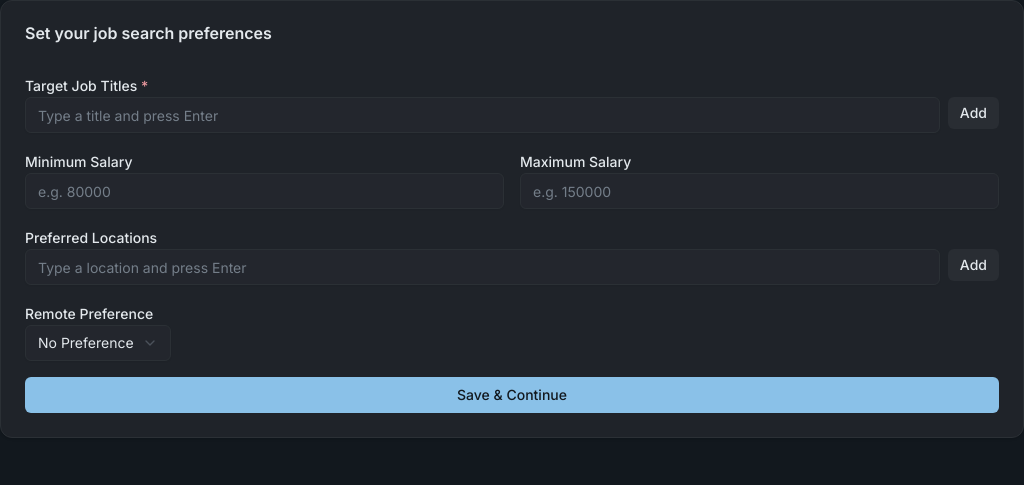
it: PreferencesStep › [P1] should add title chip on Enter key
Type "Frontend Engineer" into the field labelled "Target Job Titles *". click: (482, 115)
box: left=25, top=97, right=940, bottom=133
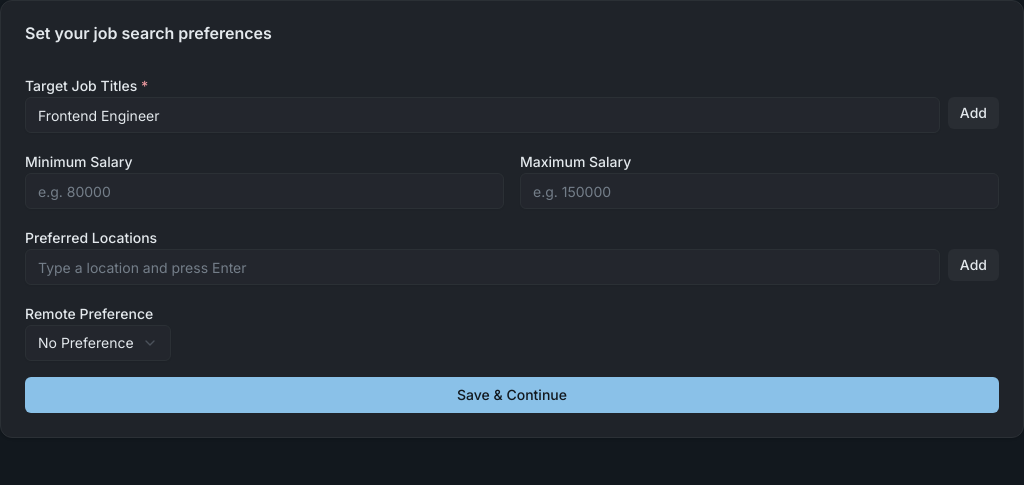
Press Enter in the field labelled "Target Job Titles *", box left=25, top=97, right=940, bottom=133
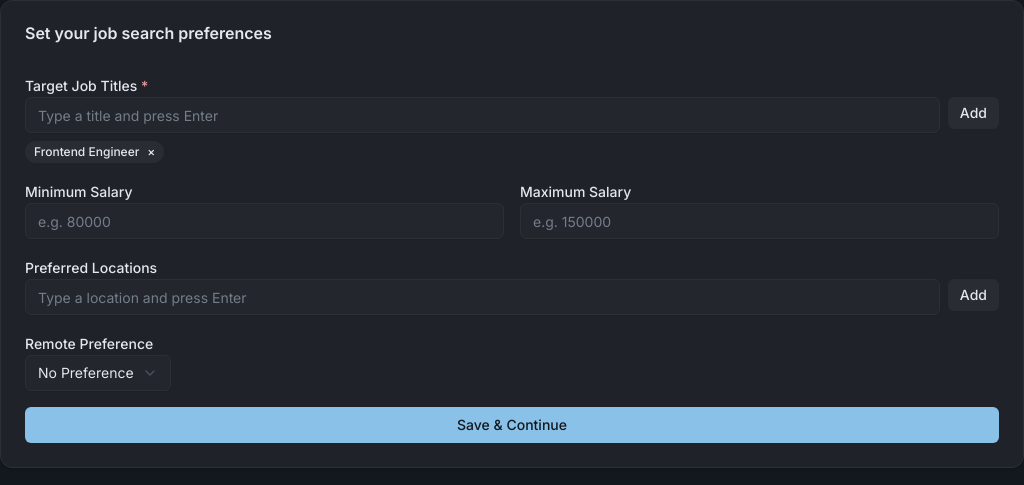
expect the text "Frontend Engineer" is shown: met, box left=34, top=144, right=139, bottom=159
expect the field labelled "Target Job Titles *" is empty: met, box left=25, top=97, right=940, bottom=133
